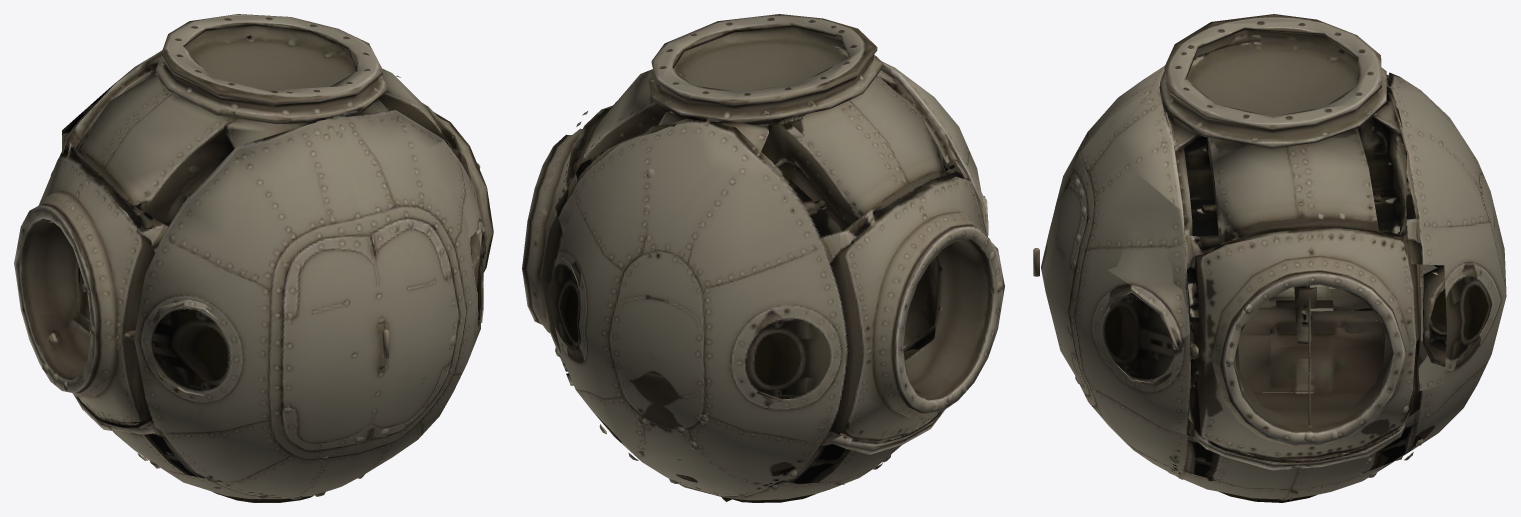
The model's file is ballturret_ng_remesh.glb.
3 renders of one model, left to right at view 1: azimuth 30°, elevation 25°; view 2: azimuth 150°, elevation 25°; view 3: azimuth 270°, elevation 25°, orthographic.
Visible parts, largest first — view 1: tripo_node_706aa691-01f7-4ff3-ade6-eba83; view 2: tripo_node_706aa691-01f7-4ff3-ade6-eba83; view 3: tripo_node_706aa691-01f7-4ff3-ade6-eba83.
Boxes of the visible parts, bbox=[...] form: tripo_node_706aa691-01f7-4ff3-ade6-eba83: bbox=[14, 14, 493, 502]; tripo_node_706aa691-01f7-4ff3-ade6-eba83: bbox=[522, 14, 1004, 502]; tripo_node_706aa691-01f7-4ff3-ade6-eba83: bbox=[1033, 14, 1506, 502].
Size of the model in its own units: 0.9765 by 0.9804 by 0.9961.
1 material, 1 textured.
